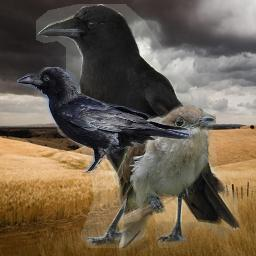Crow: (36, 4, 241, 248), (17, 67, 193, 176)
Cuckoo: (114, 104, 216, 250)
